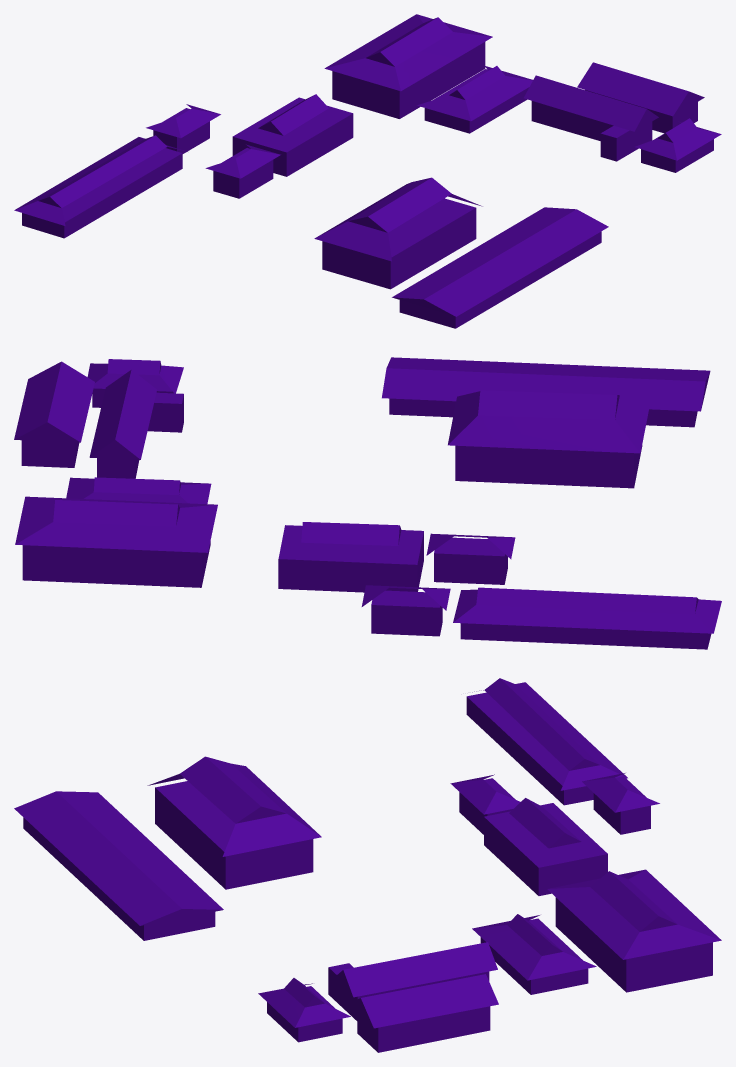
Rendered from 1979-wat.obj.
The picture shows the model from 3 angles, top to bottom: view 1: azimuth 30°, elevation 25°; view 2: azimuth 150°, elevation 25°; view 3: azimuth 270°, elevation 25°; orthographic projection. The views are drawn at different scales.
Visible parts, largest first — view 1: Obj_000080, Obj_000060, Obj_000054, Obj_000055, Obj_000052, Obj_000084, Obj_000085, Obj_000057, Obj_000130, Obj_000061, Obj_000066, Obj_000108 (+19 smaller); view 2: Obj_000080, Obj_000054, Obj_000055, Obj_000060, Obj_000126, Obj_000085, Obj_000063, Obj_000084, Obj_000052, Obj_000106, Obj_000066, Obj_000130 (+19 smaller); view 3: Obj_000080, Obj_000060, Obj_000054, Obj_000055, Obj_000084, Obj_000085, Obj_000052, Obj_000130, Obj_000058, Obj_000066, Obj_000108, Obj_000061 (+20 smaller).
Part boxes in pixels (bbox=[...]): Obj_000080: bbox=[392, 207, 608, 316]; Obj_000060: bbox=[322, 198, 476, 289]; Obj_000054: bbox=[232, 97, 353, 176]; Obj_000055: bbox=[332, 42, 485, 118]; Obj_000052: bbox=[22, 148, 182, 238]; Obj_000084: bbox=[524, 75, 658, 131]; Obj_000085: bbox=[577, 62, 704, 116]; Obj_000057: bbox=[531, 101, 652, 161]; Obj_000130: bbox=[348, 177, 451, 232]; Obj_000061: bbox=[399, 231, 601, 328]; Obj_000066: bbox=[38, 135, 167, 208]; Obj_000108: bbox=[395, 32, 492, 90]; Obj_000080: bbox=[382, 357, 710, 411]; Obj_000054: bbox=[278, 525, 423, 592]; Obj_000055: bbox=[22, 541, 210, 587]; Obj_000060: bbox=[455, 445, 642, 488]; Obj_000126: bbox=[448, 415, 639, 453]; Obj_000085: bbox=[14, 361, 94, 442]; Obj_000063: bbox=[453, 604, 713, 633]; Obj_000084: bbox=[89, 369, 156, 459]; Obj_000052: bbox=[460, 623, 711, 649]; Obj_000106: bbox=[15, 522, 207, 552]; Obj_000066: bbox=[476, 587, 698, 614]; Obj_000130: bbox=[478, 390, 619, 420]; Obj_000080: bbox=[14, 791, 223, 925]; Obj_000060: bbox=[155, 781, 313, 889]; Obj_000054: bbox=[484, 803, 607, 895]; Obj_000055: bbox=[555, 897, 712, 992]; Obj_000084: bbox=[333, 942, 497, 997]; Obj_000085: bbox=[348, 974, 498, 1028]; Obj_000052: bbox=[466, 692, 593, 805]; Obj_000130: bbox=[180, 756, 286, 823]; Obj_000058: bbox=[357, 1006, 490, 1052]; Obj_000066: bbox=[484, 678, 599, 770]; Obj_000108: bbox=[547, 887, 639, 959]; Obj_000061: bbox=[23, 817, 215, 940].
Bounding box in the file's own units: 126 × 11 × 106.
